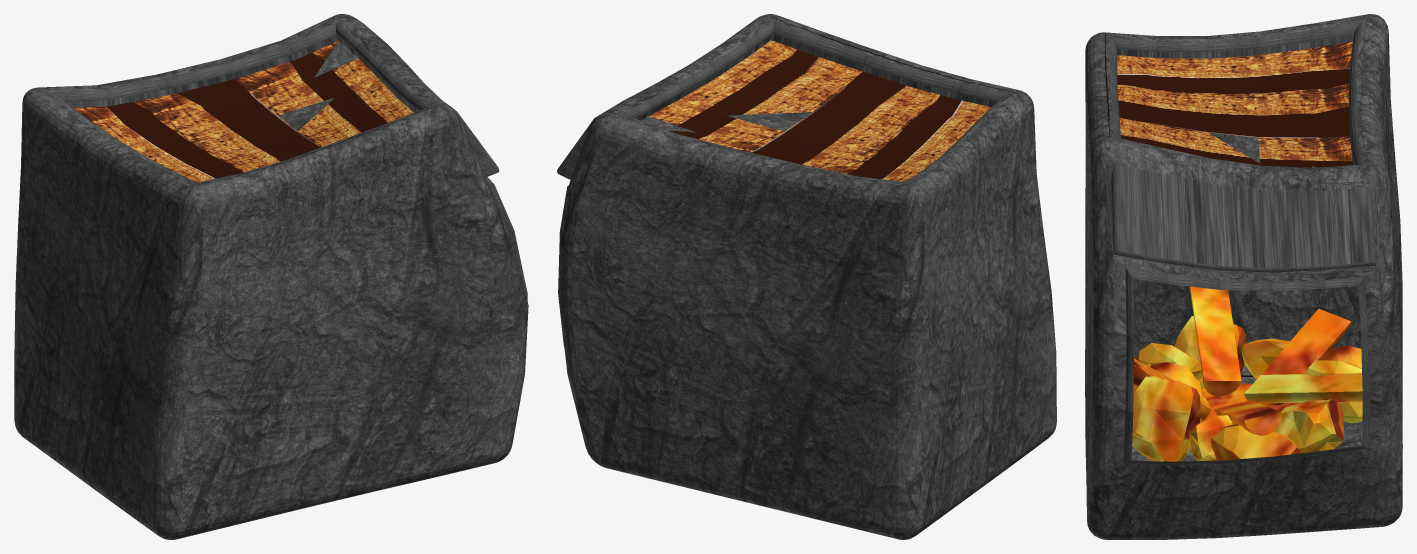
Rendered from HornoPicapiedas.obj.
3 renders of one model, left to right at view 1: azimuth 30°, elevation 25°; view 2: azimuth 150°, elevation 25°; view 3: azimuth 270°, elevation 25°, orthographic. The views are drawn at different scales.
Parts seen in each view (by area): view 1: Null_Objectbody1; view 2: Null_Objectbody1; view 3: Null_Objectbody1.
Boxes of the visible parts, box(x1,y1,x2,y2) form: Null_Objectbody1: box(14, 14, 528, 539); Null_Objectbody1: box(557, 14, 1056, 539); Null_Objectbody1: box(1085, 14, 1402, 539).
Size of the model in its own units: 2.1 by 1.9 by 1.46.
Materials: 3 (3 with a texture image).
